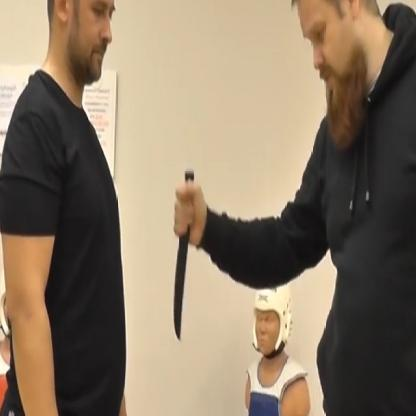knife: (168, 160, 198, 346)
